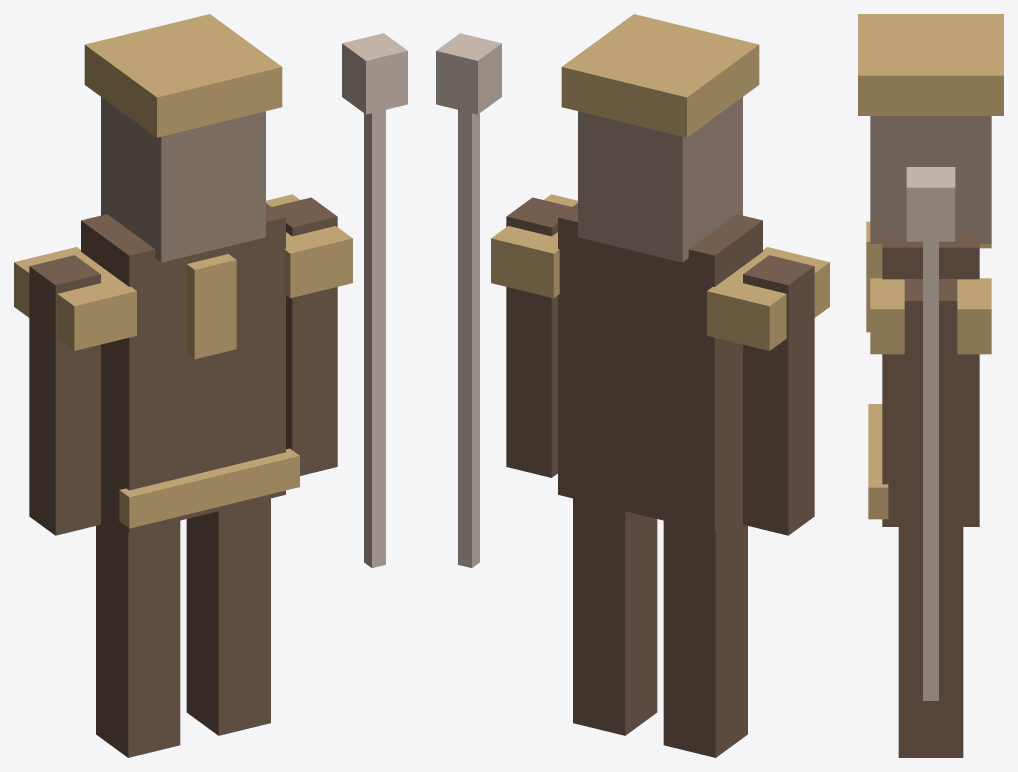
Rendered from 18_draven_latchward_runner_at_storm.glb.
3 renders of one model, left to right at view 1: azimuth 30°, elevation 25°; view 2: azimuth 150°, elevation 25°; view 3: azimuth 270°, elevation 25°, orthographic.
Visible parts, largest first — view 1: Draven Latchward, Runner at Storm; view 2: Draven Latchward, Runner at Storm; view 3: Draven Latchward, Runner at Storm.
Part boxes in pixels (<box>): Draven Latchward, Runner at Storm: <box>14,14,407,757</box>; Draven Latchward, Runner at Storm: <box>436,14,829,757</box>; Draven Latchward, Runner at Storm: <box>858,14,1003,757</box>.
Size of the model in its own units: 0.938 by 1.71 by 0.3327.
